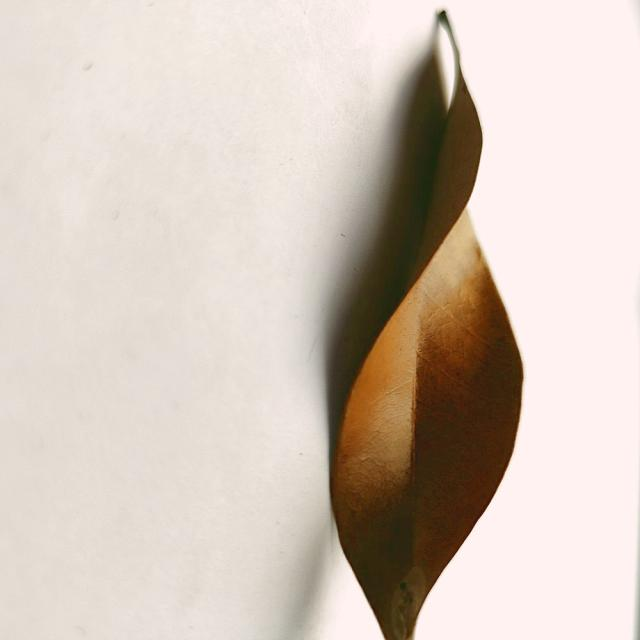Dry_Leaf-Lychee: (330, 79, 525, 639)
